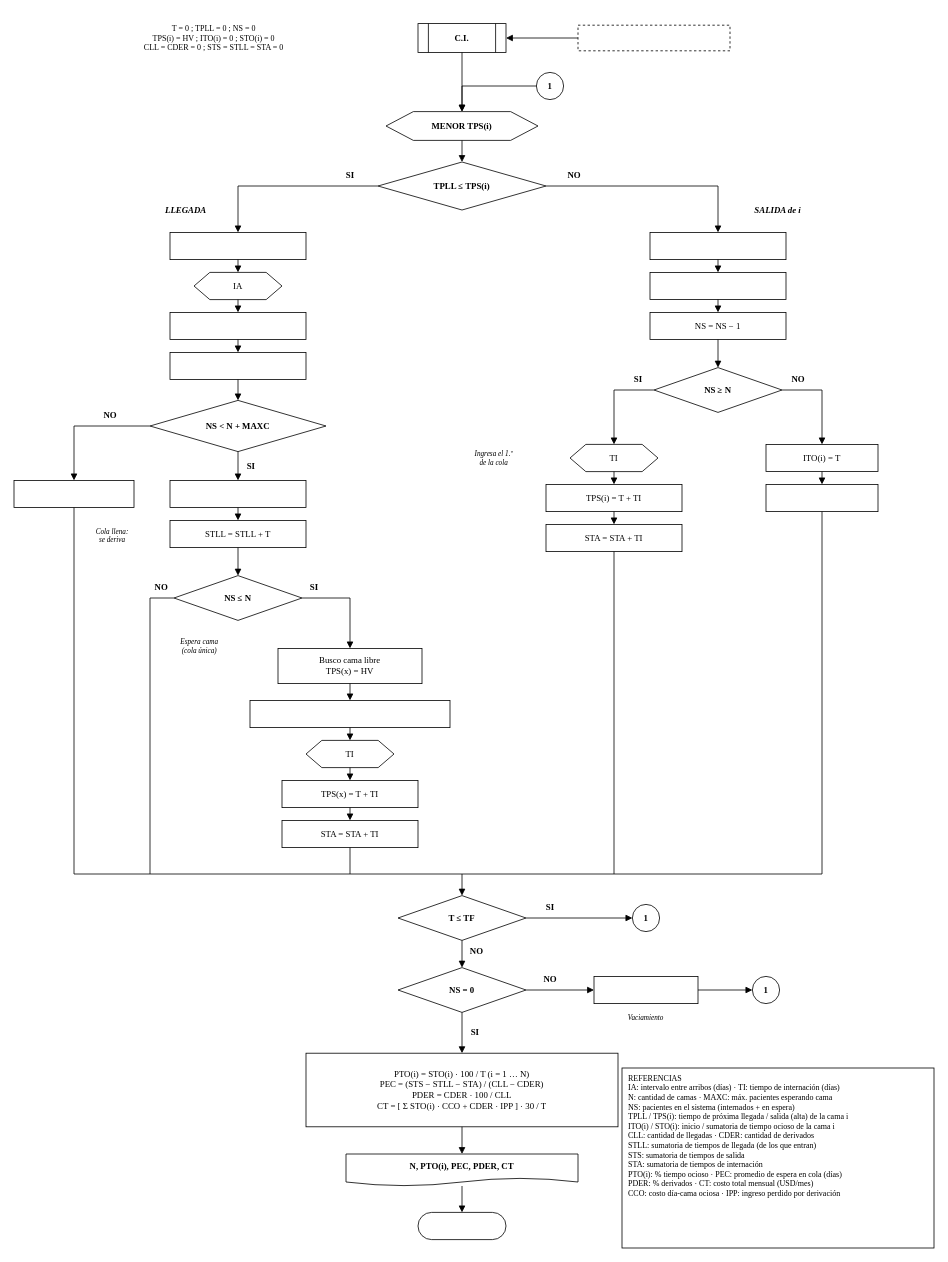
The diagram is 948 pixels wide and 1262 high, and some of its shapes have lost their labels. The centre of each missing label's shape, as x and y in pixels:
CDER = CDER + 1: point 73,494
CLL = CLL + 1: point 237,366
FIN: point 461,1226
Ingreso N y MAXC: point 653,37
NS = NS + 1: point 237,494
STO(x) = STO(x) + (T − ITO(x)): point 349,714
STS = STS + T: point 717,286
T = TPLL: point 237,246
T = TPS(i): point 717,246
TPLL = HV: point 645,990
TPLL = T + IA: point 237,326
TPS(i) = HV: point 821,498
